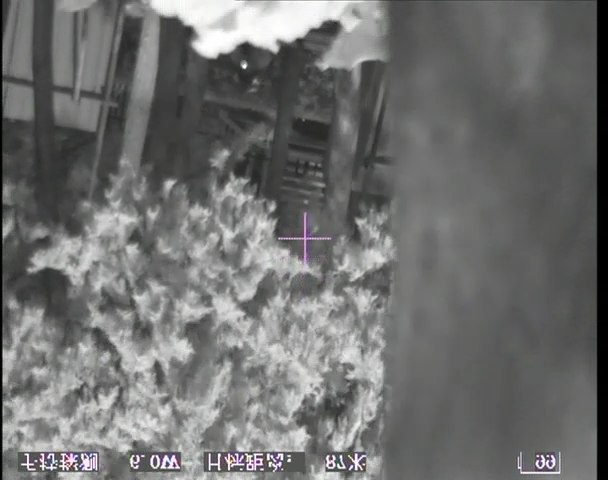my: (239, 58, 250, 70)
